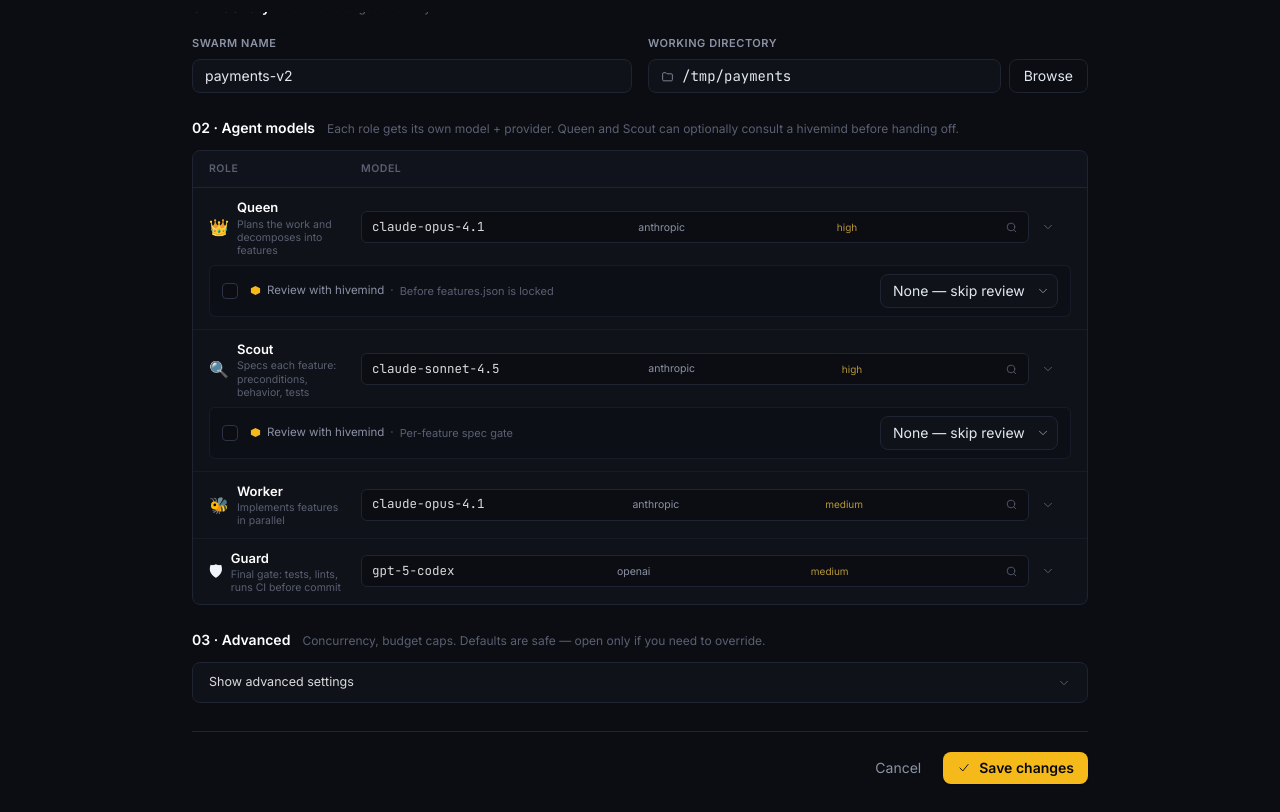
it: NewSwarmScreen › edit mode — Save changes › surfaces the backend error and does not navigate when updateSwarm rejects
(page scrolled)
Click the button "Save changes" at (1016, 768), box [943,752,1088,784]
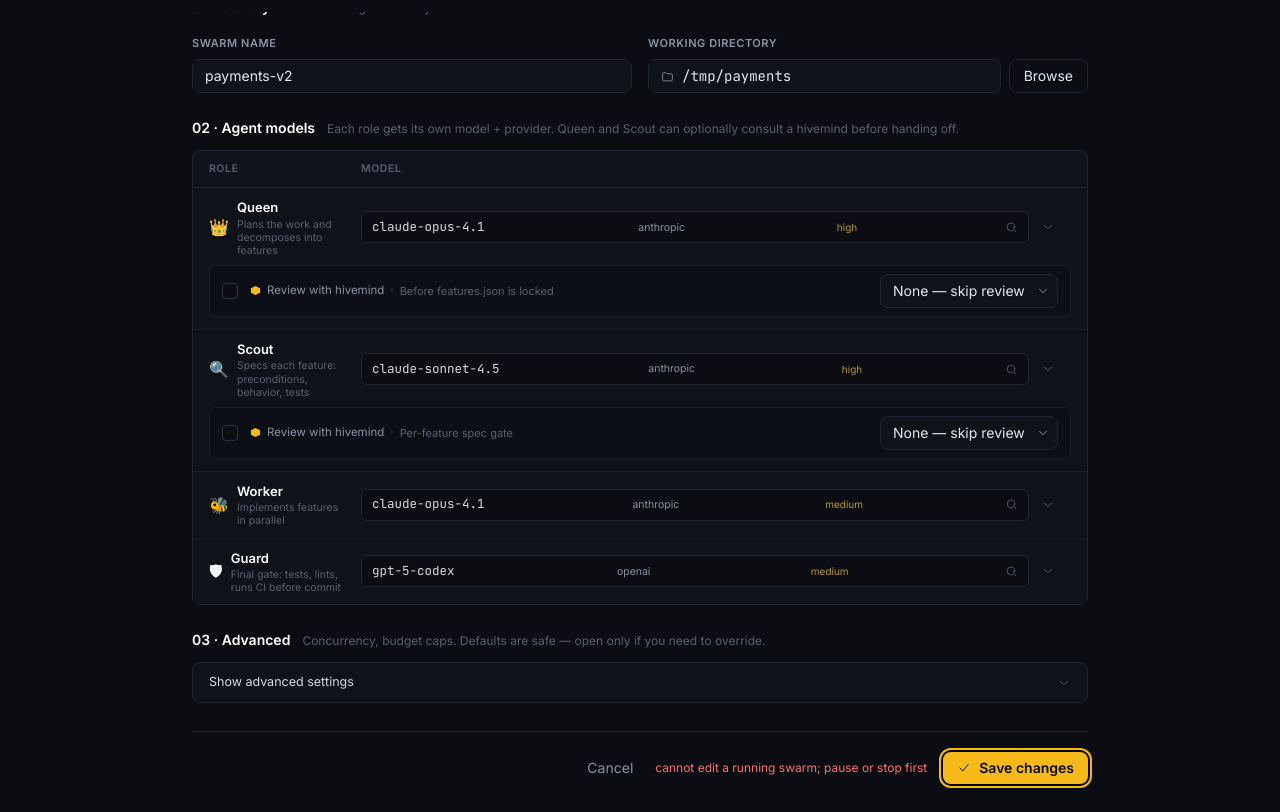
Now the text "cannot edit a running swarm; pause or stop first" is shown, box [655,759,927,777]
